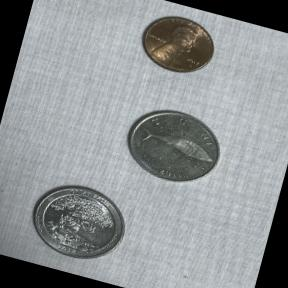coin: (19, 172, 141, 274), (114, 97, 234, 198), (126, 1, 228, 87)
